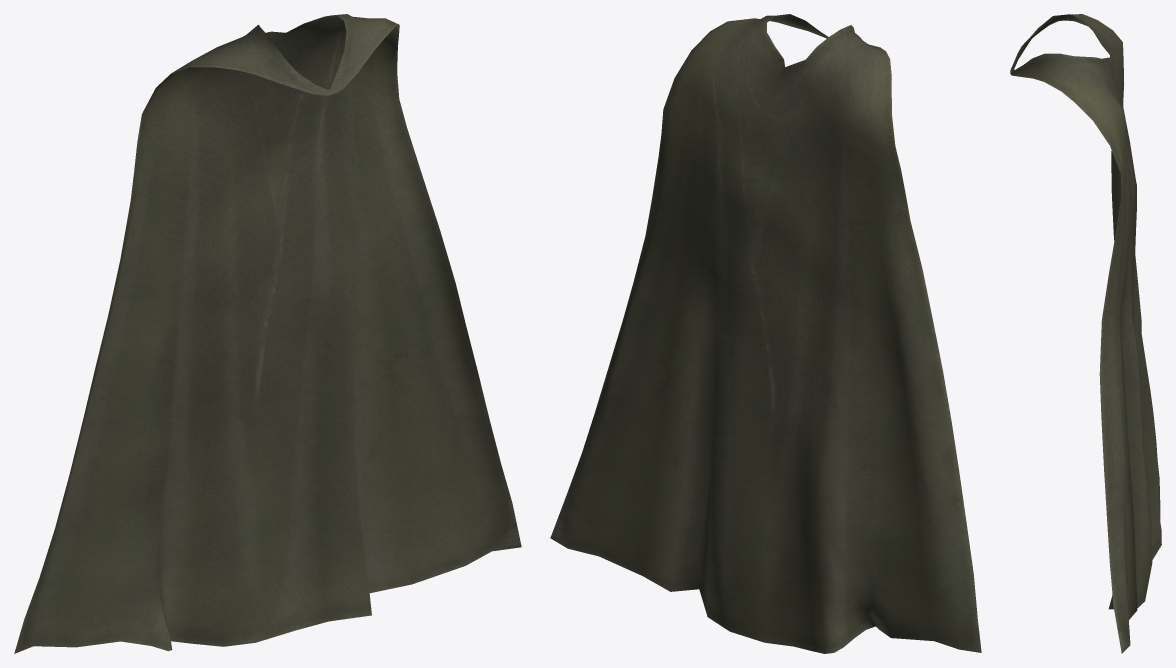
The model's file is clo_legolas_shoulder.fbx.
3 views of the same model, side by side, from view 1: azimuth 30°, elevation 25°; view 2: azimuth 150°, elevation 25°; view 3: azimuth 270°, elevation 25° (orthographic). The views are drawn at different scales.
Parts seen in each view (by area): view 1: clo_legolas_shoulder; view 2: clo_legolas_shoulder; view 3: clo_legolas_shoulder.
Part boxes in pixels (x1,y1,x2,y2): clo_legolas_shoulder: (14, 14, 521, 653); clo_legolas_shoulder: (550, 14, 981, 653); clo_legolas_shoulder: (1010, 14, 1161, 653).
Bounding box in the file's own units: 1.05 × 0.3307 × 1.34.
Materials: 1 (1 with a texture image).
